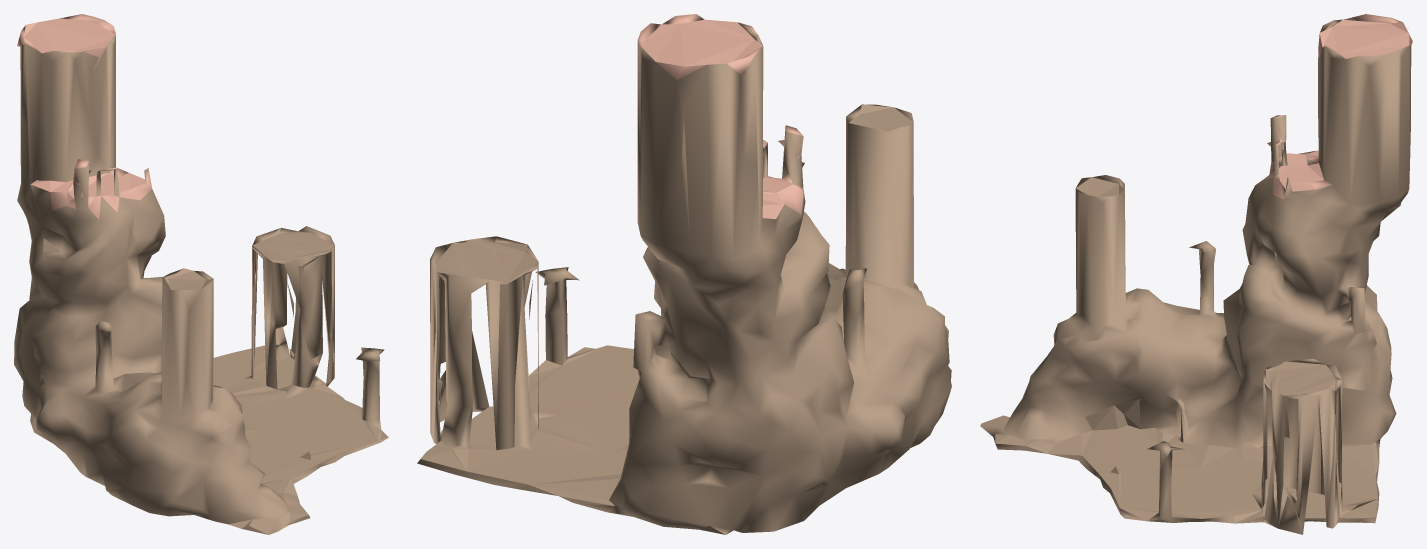
Rendered from templo_mediano_h.glb.
3 renders of one model, left to right at view 1: azimuth 30°, elevation 25°; view 2: azimuth 150°, elevation 25°; view 3: azimuth 270°, elevation 25°, orthographic. The views are drawn at different scales.
Parts seen in each view (by area): view 1: templo_mediano_h; view 2: templo_mediano_h; view 3: templo_mediano_h.
Part boxes in pixels (x1,y1,x2,y2): templo_mediano_h: (14,14,388,534); templo_mediano_h: (417,14,951,534); templo_mediano_h: (980,14,1412,534).
Bounding box in the file's own units: 8.21 × 9.03 × 9.22.
